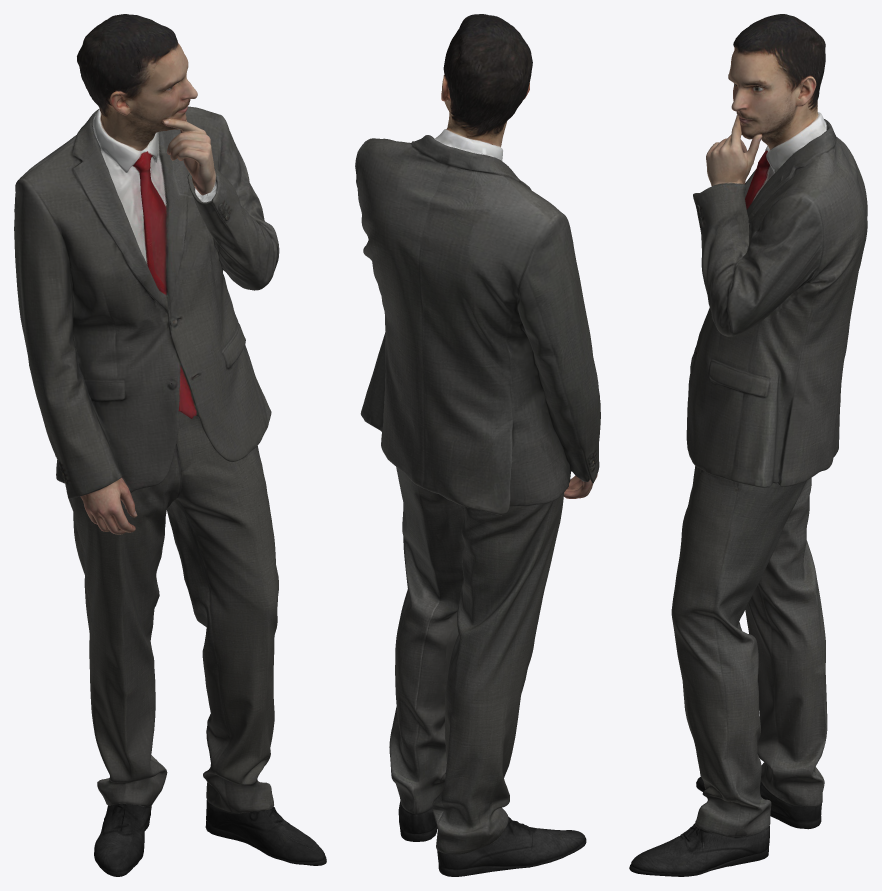
Rendered from GTP_BMan_Jack_07_Stg_Lsn_Adl_Ccs_Gry_Mgr.fbx.
3 views of the same model, side by side, from view 1: azimuth 30°, elevation 25°; view 2: azimuth 150°, elevation 25°; view 3: azimuth 270°, elevation 25° (orthographic). The views are drawn at different scales.
Visible parts, largest first — view 1: GTP_BMan_Jack_07_Stg_Lsn_Adl_Ccs_Gry_Mgr; view 2: GTP_BMan_Jack_07_Stg_Lsn_Adl_Ccs_Gry_Mgr; view 3: GTP_BMan_Jack_07_Stg_Lsn_Adl_Ccs_Gry_Mgr.
Boxes of the visible parts, x1,y1,x2,y2 form: GTP_BMan_Jack_07_Stg_Lsn_Adl_Ccs_Gry_Mgr: (14, 14, 326, 876); GTP_BMan_Jack_07_Stg_Lsn_Adl_Ccs_Gry_Mgr: (355, 14, 600, 876); GTP_BMan_Jack_07_Stg_Lsn_Adl_Ccs_Gry_Mgr: (629, 14, 867, 876).
Bounding box in the file's own units: 53.9 × 185 × 50.12.
1 material, 1 textured.
